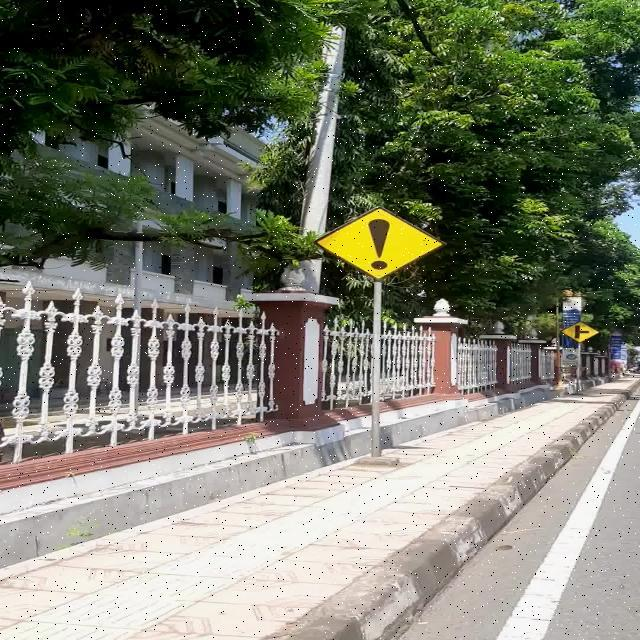Hati-Hati: (313, 206, 446, 281)
